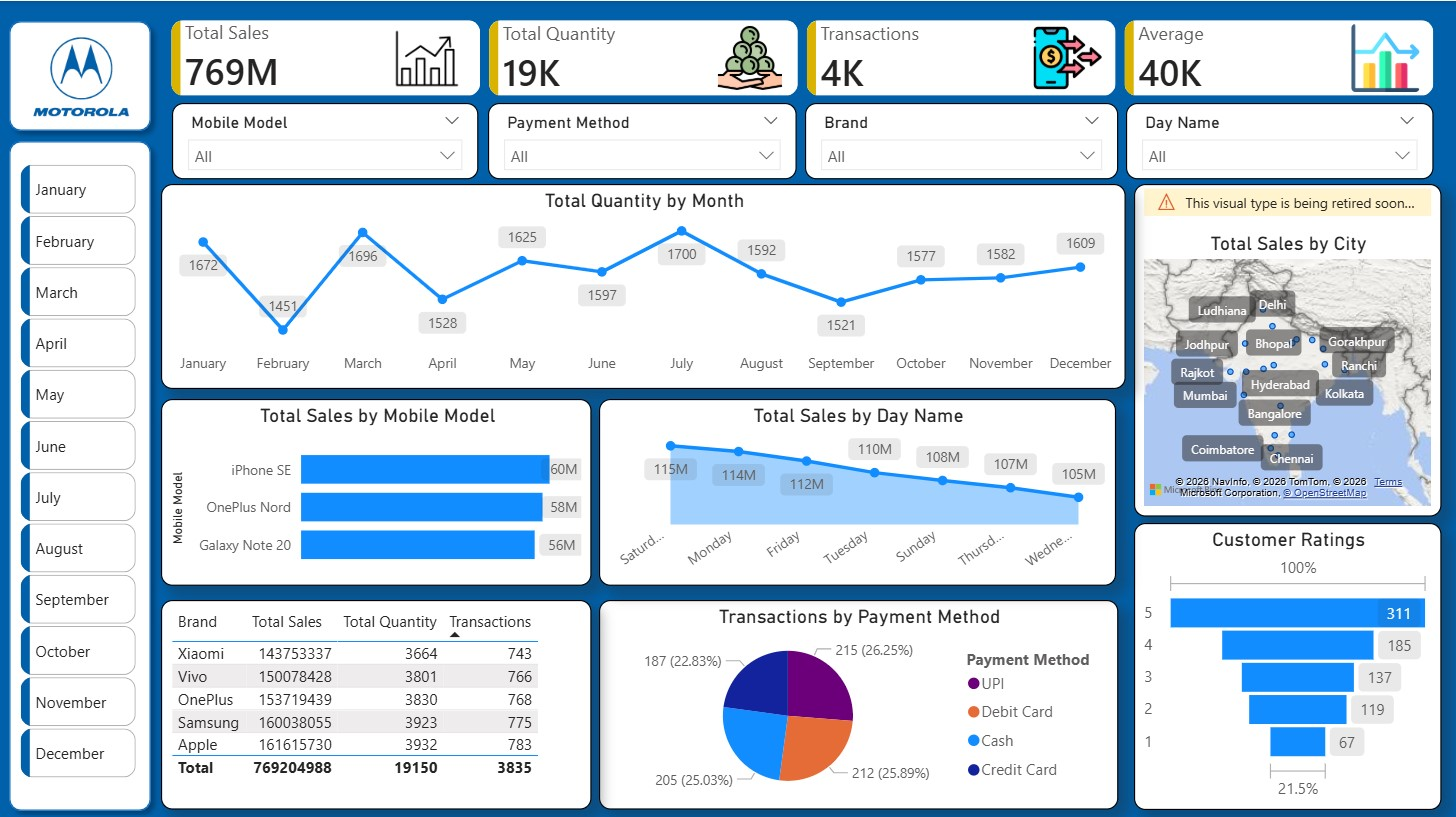

This screenshot's page, from the dashboard's own definition file:
{"tool":"powerbi","page":{"name":"Dashboard","canvas":[1280,720],"ordinal":0},"visuals":[{"type":"group","id":"g1","title":"Group 1","box":[0,8.8,142.2,114.1],"z":0},{"type":"shape","box":[0,8.8,142.2,114.1],"z":0,"group":"g1"},{"type":"shape","box":[0,114,142.2,605.9],"z":0,"group":"g2"},{"type":"image","box":[20,24.4,103.3,83.9],"z":1000,"group":"g1"},{"type":"group","id":"g2","title":"Group 2","box":[0,114,142.2,605.9],"z":1000},{"type":"advancedSlicerVisual","fields":{"Values":["Sales_Data.Date.Variation.Date Hierarchy.Month"]},"box":[14,138.6,111.5,555.8],"z":1000,"group":"g2"},{"type":"cardVisual","fields":{"Data":["Sales_Data.Total Sales","Sales_Data.Total Quantity","Sales_Data.Transactions","Sales_Data.Average"]},"box":[134.3,0,1145.9,100.1],"z":2000},{"type":"map","title":"Total Sales by City","fields":{"Category":["Sales_Data.City"]},"box":[996.6,160.7,269.6,291.5],"z":2001},{"type":"lineChart","fields":{"Category":["Sales_Data.Date.Variation.Date Hierarchy.Month","Sales_Data.Date.Variation.Date Hierarchy.Day"],"Y":["Sales_Data.Total Quantity"]},"box":[142.2,160.7,847.3,180],"z":2002},{"type":"barChart","fields":{"Category":["Sales_Data.Mobile Model"],"Y":["Sales_Data.Total Sales"]},"box":[142.2,349.5,378.4,164.2],"z":2003},{"type":"pieChart","fields":{"Category":["Sales_Data.Payment Method"],"Y":["Sales_Data.Transactions"]},"box":[526.8,526,455.7,184.4],"z":2004},{"type":"funnel","title":"Customer Ratings","fields":{"Category":["Sales_Data.Customer Ratings"],"Y":["CountNonNull(Sales_Data.Customer Ratings)"]},"box":[996.6,458.3,269.6,252],"z":2005},{"type":"areaChart","fields":{"Category":["Sales_Data.Day Name"],"Y":["Sales_Data.Total Sales"]},"box":[526.8,349.5,454,164.2],"z":2006},{"type":"tableEx","fields":{"Values":["Sales_Data.Brand","Sales_Data.Total Sales","Sales_Data.Total Quantity","Sales_Data.Transactions"]},"box":[142.2,526,378.4,184.4],"z":2007},{"type":"slicer","fields":{"Values":["Sales_Data.Mobile Model"]},"box":[151.9,89.6,268.7,66.7],"z":2008},{"type":"slicer","fields":{"Values":["Sales_Data.Payment Method"]},"box":[429.4,89.6,271.3,66.7],"z":2009},{"type":"slicer","fields":{"Values":["Sales_Data.Brand"]},"box":[707.7,89.6,274.8,66.7],"z":2010},{"type":"slicer","fields":{"Values":["Sales_Data.Day Name"]},"box":[989.6,89.6,269.6,66.7],"z":2011}]}

Visuals, with their boxes in screenshot pixels (x1, y1, x2, y2), scaled from the page's 1280x720 canvas onto the 1456x817 screenshot:
"Group 1" group: (x1=0, y1=10, x2=162, y2=139)
shape: (x1=0, y1=10, x2=162, y2=139)
shape: (x1=0, y1=129, x2=162, y2=816)
image: (x1=23, y1=28, x2=140, y2=123)
"Group 2" group: (x1=0, y1=129, x2=162, y2=816)
advancedSlicerVisual - Sales_Data.Date.Variation.Date Hierarchy.Month: (x1=16, y1=157, x2=143, y2=788)
cardVisual - Sales_Data.Total Sales x Sales_Data.Total Quantity: (x1=153, y1=0, x2=1455, y2=114)
"Total Sales by City" map: (x1=1134, y1=182, x2=1440, y2=513)
lineChart - Sales_Data.Date.Variation.Date Hierarchy.Month x Sales_Data.Date.Variation.Date Hierarchy.Day: (x1=162, y1=182, x2=1126, y2=387)
barChart - Sales_Data.Mobile Model x Sales_Data.Total Sales: (x1=162, y1=397, x2=592, y2=583)
pieChart - Sales_Data.Payment Method x Sales_Data.Transactions: (x1=599, y1=597, x2=1118, y2=806)
"Customer Ratings" funnel: (x1=1134, y1=520, x2=1440, y2=806)
areaChart - Sales_Data.Day Name x Sales_Data.Total Sales: (x1=599, y1=397, x2=1116, y2=583)
tableEx - Sales_Data.Brand x Sales_Data.Total Sales: (x1=162, y1=597, x2=592, y2=806)
slicer - Sales_Data.Mobile Model: (x1=173, y1=102, x2=478, y2=177)
slicer - Sales_Data.Payment Method: (x1=488, y1=102, x2=797, y2=177)
slicer - Sales_Data.Brand: (x1=805, y1=102, x2=1118, y2=177)
slicer - Sales_Data.Day Name: (x1=1126, y1=102, x2=1432, y2=177)
